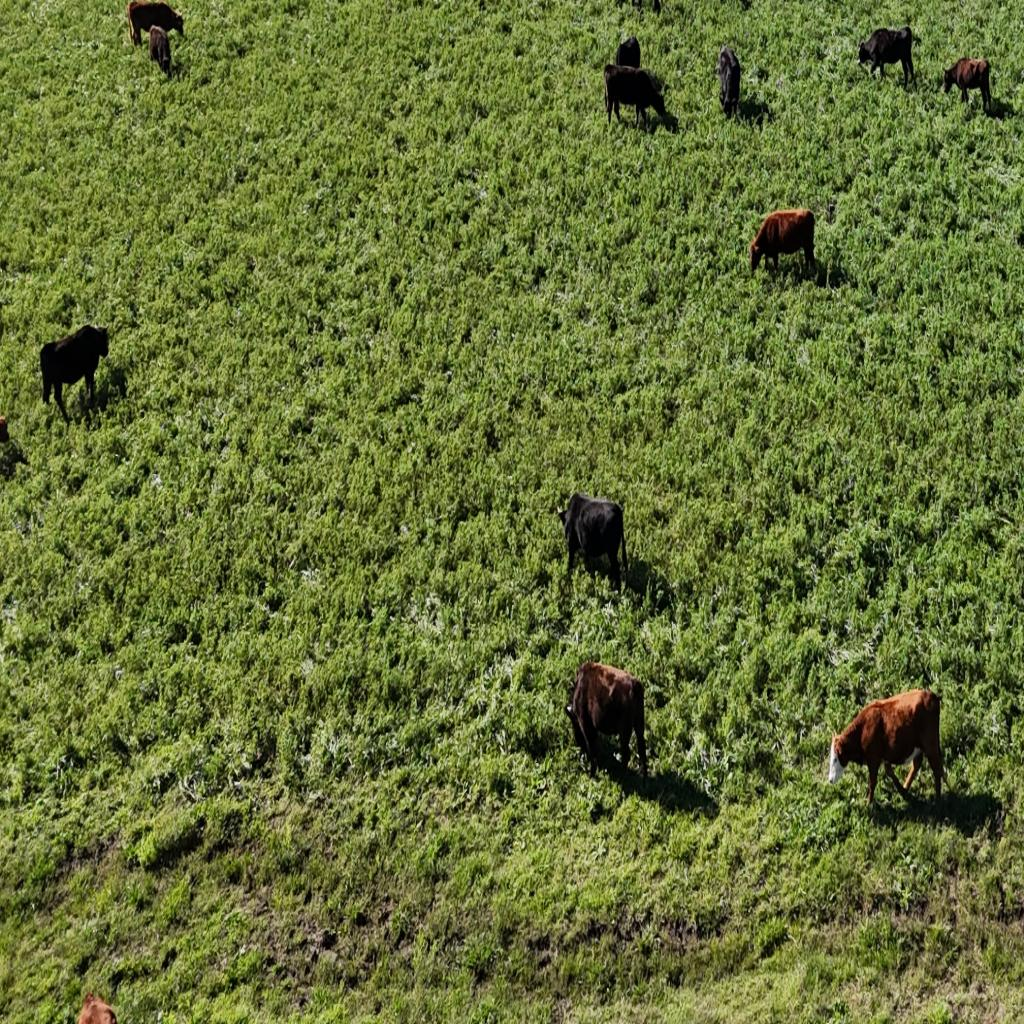cow: (827, 689, 948, 807), (566, 662, 647, 782), (558, 491, 635, 601), (39, 321, 112, 425), (746, 202, 817, 283), (604, 61, 664, 129), (856, 26, 916, 87), (940, 52, 994, 116), (717, 44, 741, 119), (76, 992, 118, 1024), (148, 22, 172, 76), (125, 0, 144, 43), (617, 34, 640, 69)
